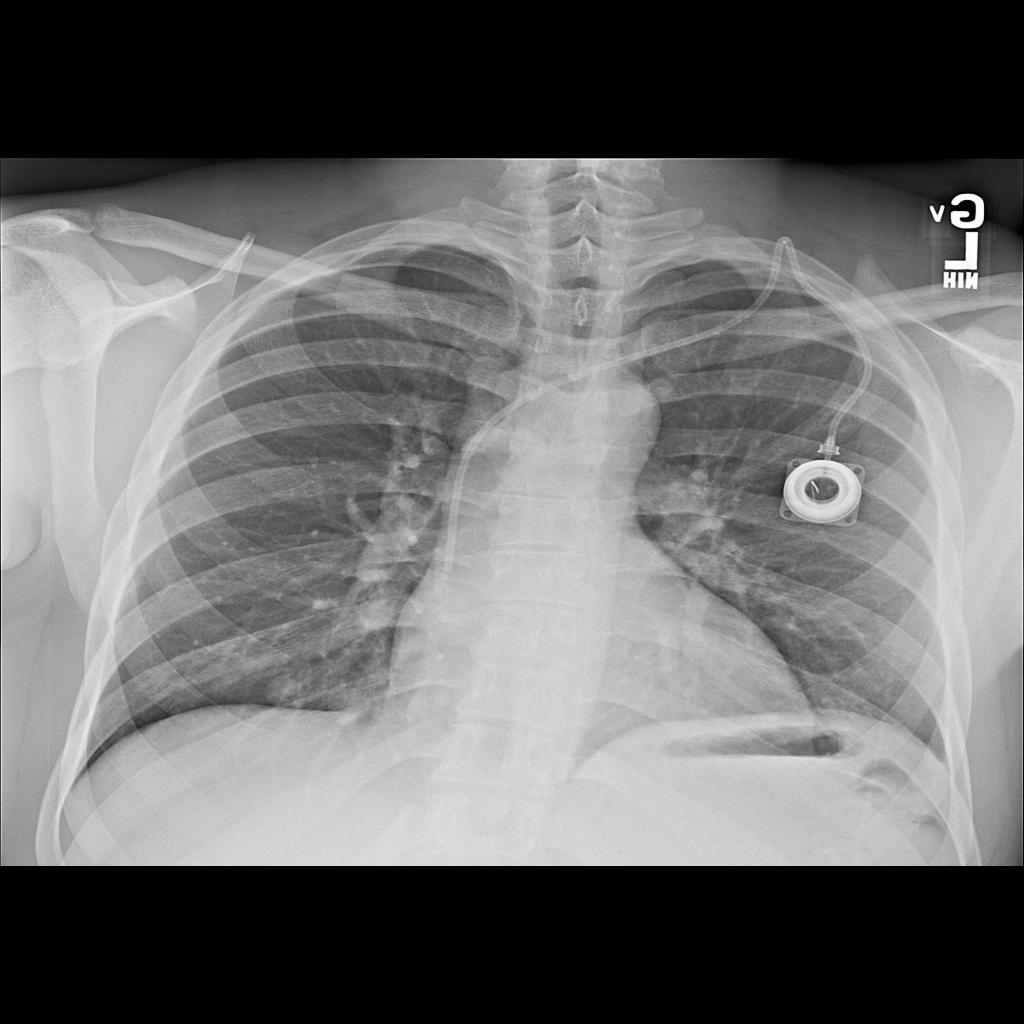Nodule: (256, 664, 313, 708)
